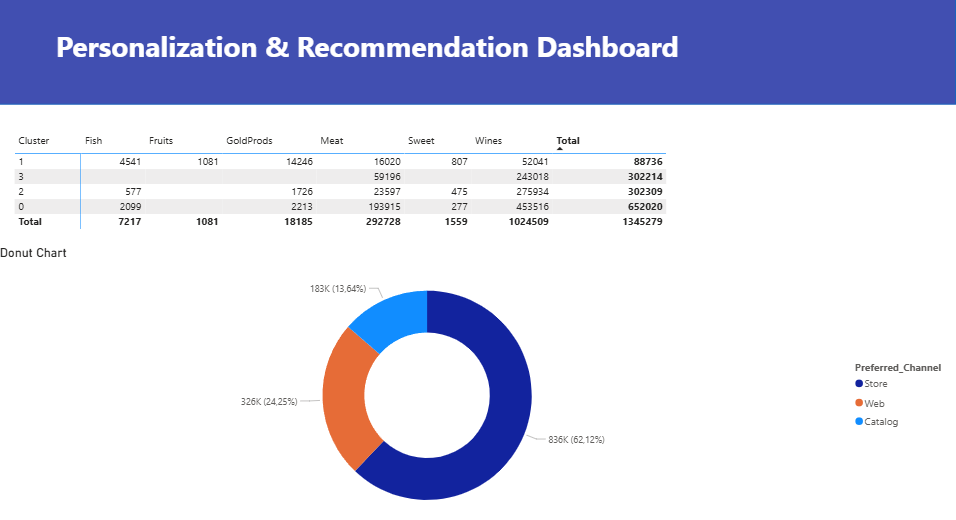

Layout of this report page (visuals, bound fields, positions):
{"tool":"powerbi","page":{"name":"Personalization & Recommendation Dashboard","canvas":[1280,720],"ordinal":3},"visuals":[{"type":"shape","box":[0,0,1280,150],"z":0},{"type":"pivotTable","fields":{"Columns":["marketing_campaign_with_features.Most_Purchased_Category"],"Values":["Sum(marketing_campaign_with_features.Total_Spending)"],"Rows":["marketing_campaign_with_features.Cluster"]},"box":[20,181.7,888.3,155],"z":1000},{"type":"donutChart","title":"Donut Chart","fields":{"Category":["marketing_campaign_with_features.Preferred_Channel"],"Y":["Sum(marketing_campaign_with_features.Total_Spending)"]},"box":[0,336.7,1280,383.3],"z":2000},{"type":"textbox","box":[75,41.7,940,70],"z":3000}]}

Visuals, with their boxes on the page's 1280x720 design canvas (x1, y1, x2, y2). These are canvas units, not pixel positions in the 956x520 screenshot, which may show the page scaled, cropped or inside an application window:
shape: [left=0, top=0, right=1280, bottom=150]
pivotTable - marketing_campaign_with_features.Most_Purchased_Category x Sum(marketing_campaign_with_features.Total_Spending): [left=20, top=182, right=908, bottom=337]
"Donut Chart" donutChart: [left=0, top=337, right=1280, bottom=720]
textbox: [left=75, top=42, right=1015, bottom=112]
